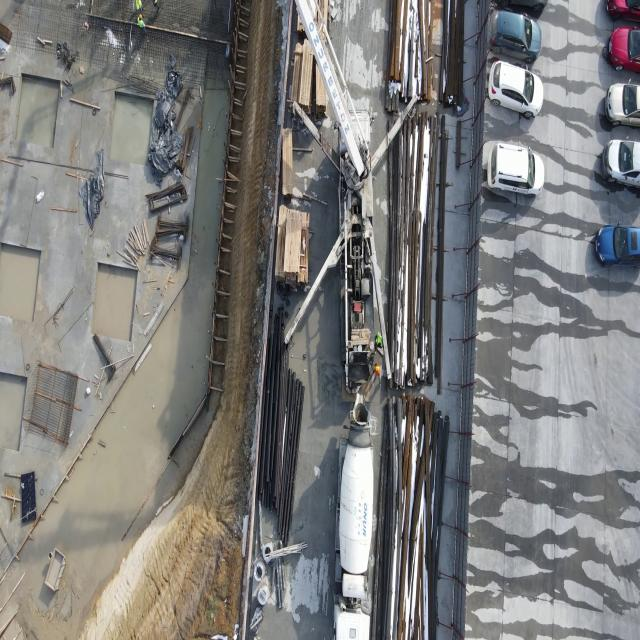p3rson: (373, 362, 381, 389), (137, 13, 147, 34), (374, 330, 383, 351), (136, 0, 145, 17), (151, 0, 159, 12)
